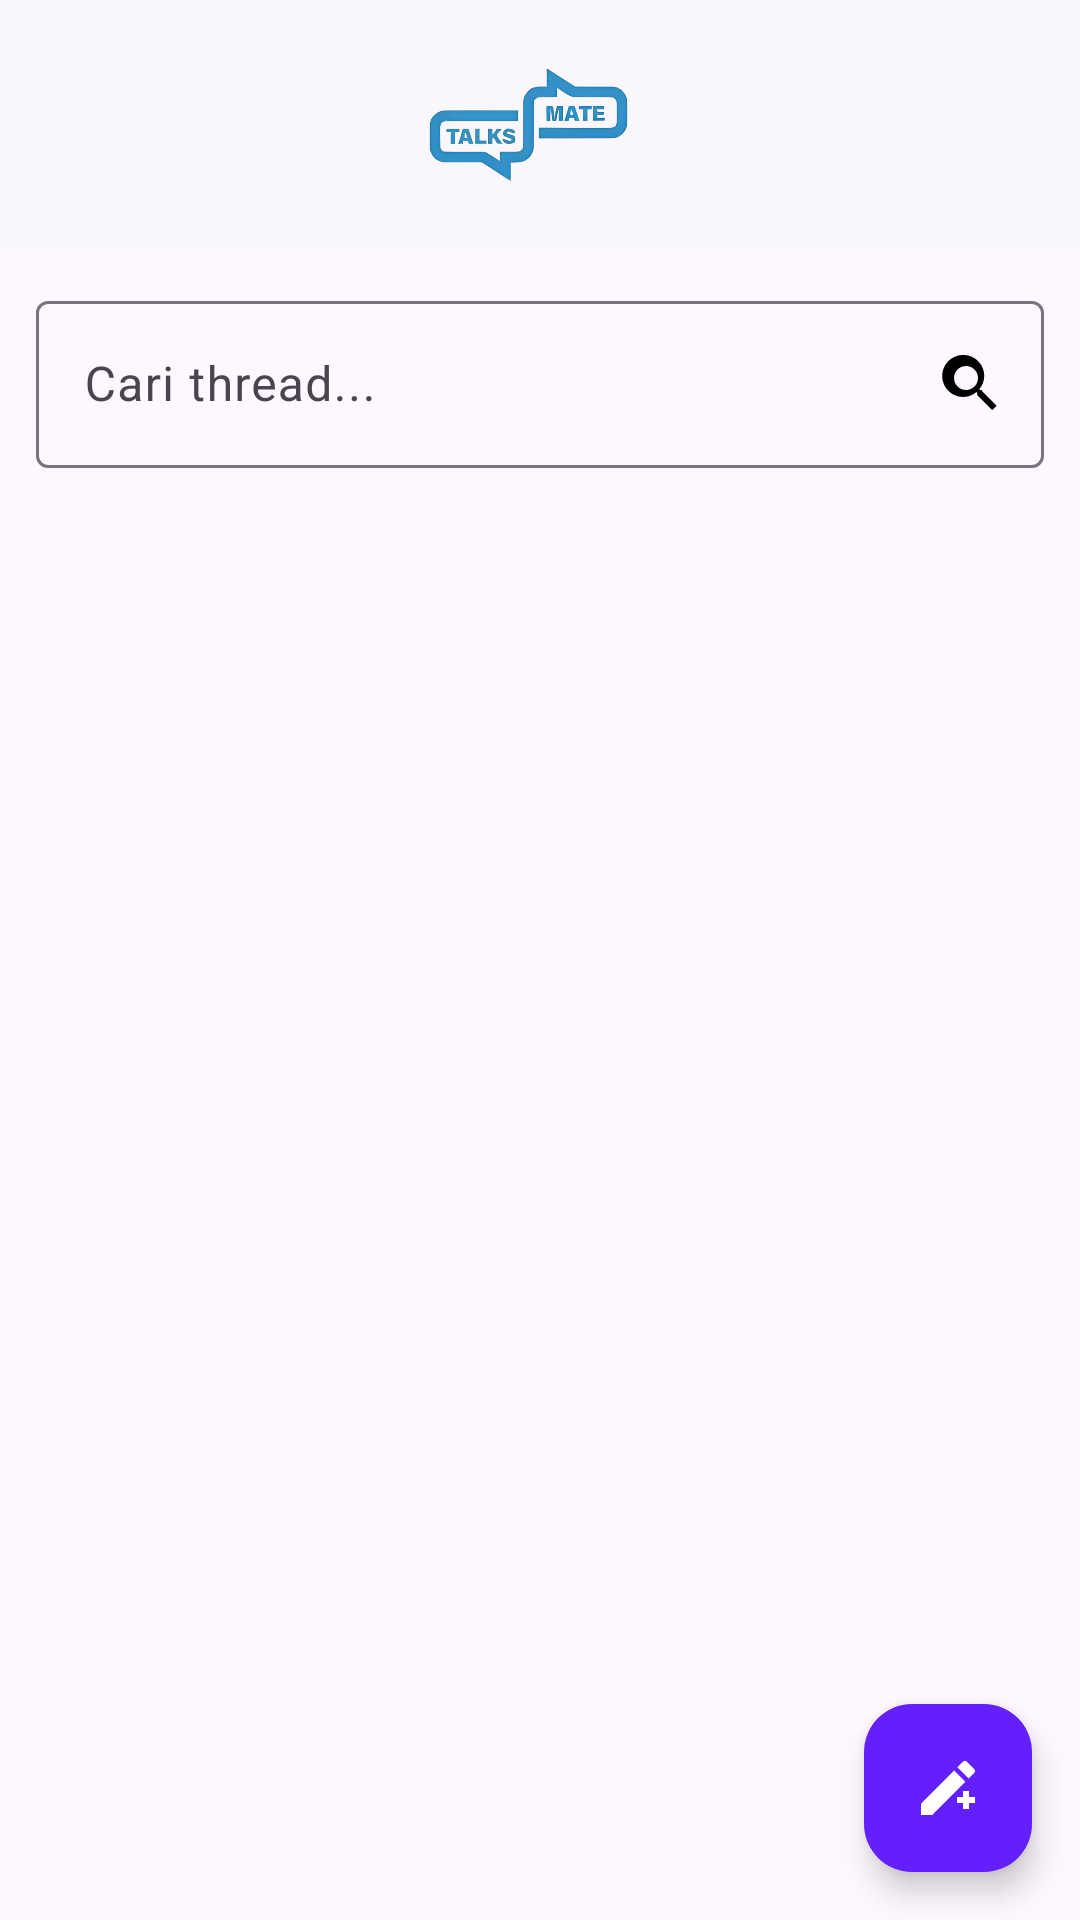

Icons on this 1080 × 1920 Android screen, each with the point to tap as [x,y]:
Buat Thread Baru: [948,1788]
